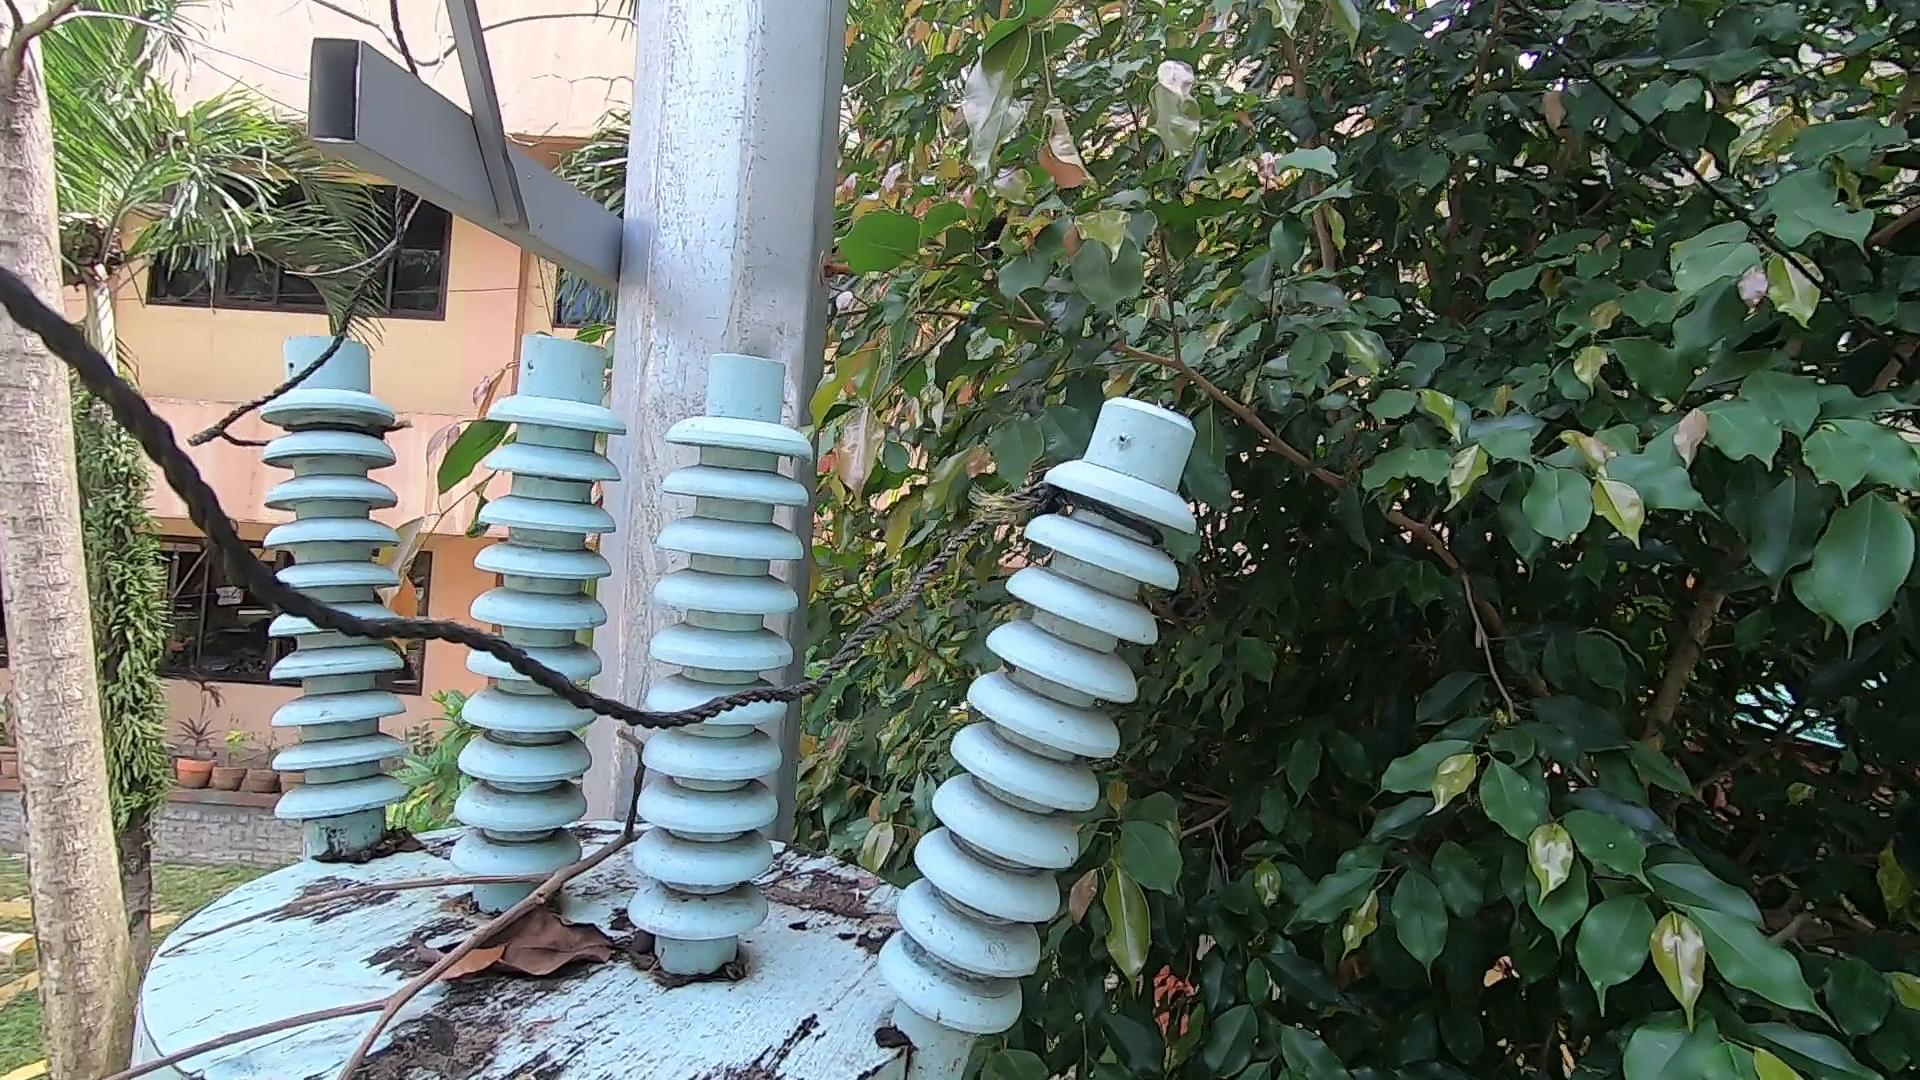leaf: (394, 903, 626, 984), (775, 839, 870, 928), (311, 825, 433, 862)
tree branch: (63, 822, 640, 1080)
